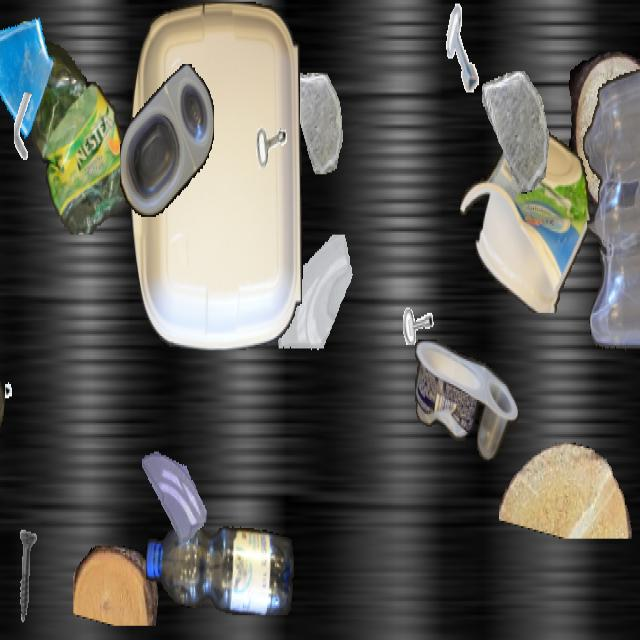glass: (276, 234, 358, 380), (482, 71, 550, 192), (0, 2, 53, 140), (142, 441, 206, 555), (288, 73, 344, 172), (636, 2, 640, 133)
metal: (237, 73, 297, 179), (0, 528, 54, 628), (438, 2, 490, 94), (393, 265, 437, 343), (4, 92, 44, 164), (5, 366, 43, 434)
plastic: (130, 2, 302, 350), (0, 21, 130, 235), (460, 124, 590, 313), (580, 69, 640, 361), (120, 64, 214, 217), (146, 519, 294, 615), (415, 340, 517, 460), (0, 347, 4, 442)
wood: (499, 442, 635, 538), (566, 52, 640, 212), (73, 546, 159, 624)
